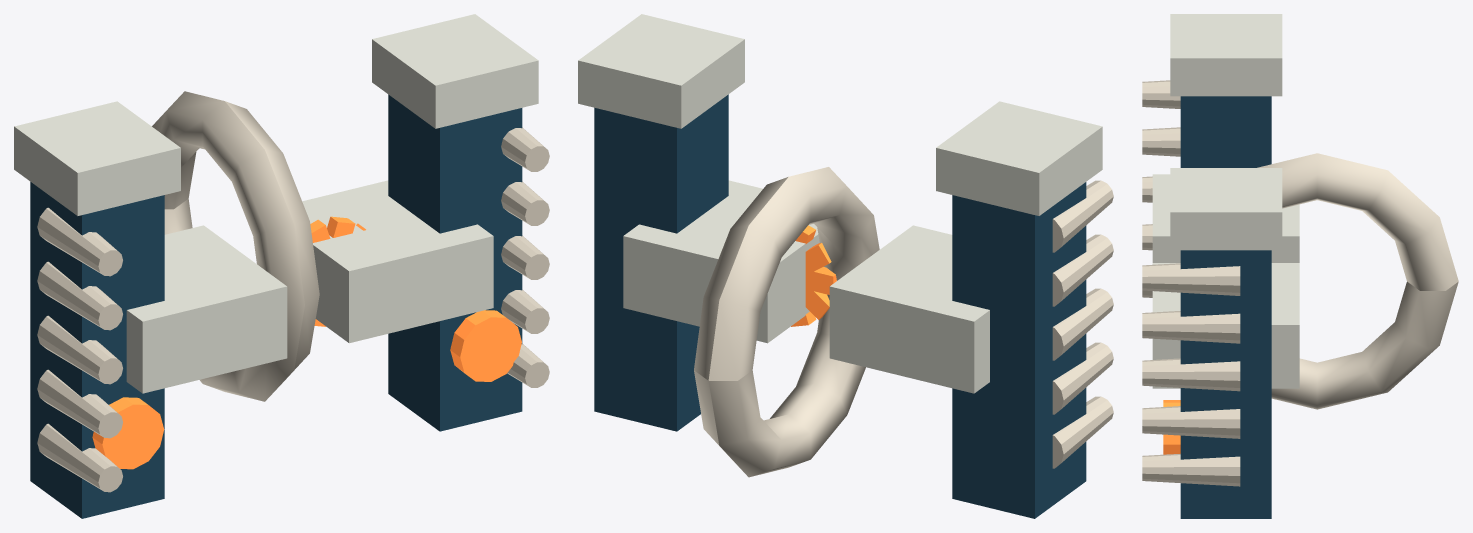
File: landmark-low.glb
3 views of the same model, side by side, from view 1: azimuth 30°, elevation 25°; view 2: azimuth 150°, elevation 25°; view 3: azimuth 270°, elevation 25° (orthographic). The views are drawn at different scales.
Parts seen in each view (by area): view 1: accent_static, porcelain_static, motion-press_1, hull_static, motion-turbine, motion-press_-1, trim_static; view 2: accent_static, motion-turbine, porcelain_static, motion-press_-1, motion-press_1, hull_static, trim_static; view 3: accent_static, motion-turbine, porcelain_static, hull_static, motion-press_1, motion-press_-1, trim_static.
Part boxes in pixels (left/top/right/bottom): accent_static: left=30, top=94, right=522, bottom=518; porcelain_static: left=14, top=14, right=538, bottom=215; motion-press_1: left=302, top=180, right=493, bottom=343; hull_static: left=37, top=127, right=549, bottom=492; motion-turbine: left=152, top=91, right=319, bottom=401; motion-press_-1: left=126, top=225, right=287, bottom=393; trim_static: left=92, top=216, right=521, bottom=469; accent_static: left=594, top=94, right=1086, bottom=518; motion-turbine: left=694, top=167, right=879, bottom=477; porcelain_static: left=578, top=14, right=1102, bottom=215; motion-press_-1: left=829, top=225, right=989, bottom=393; motion-press_1: left=623, top=180, right=819, bottom=343; hull_static: left=1052, top=180, right=1113, bottom=468; trim_static: left=791, top=225, right=836, bottom=326; accent_static: left=1180, top=96, right=1271, bottom=518; motion-turbine: left=1257, top=153, right=1458, bottom=409; porcelain_static: left=1170, top=14, right=1282, bottom=250; hull_static: left=1142, top=80, right=1240, bottom=486; motion-press_1: left=1152, top=263, right=1299, bottom=388; motion-press_-1: left=1152, top=174, right=1299, bottom=262; trim_static: left=1163, top=400, right=1180, bottom=454.
Size of the model in its own units: 1075 by 784 by 723.
